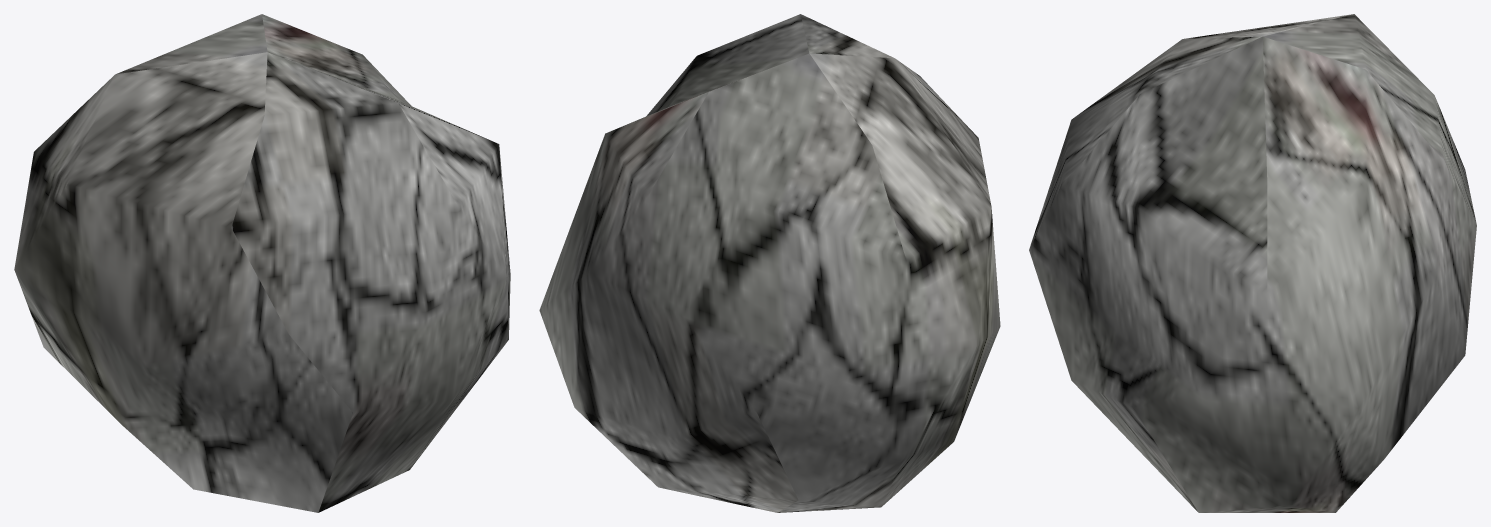
Rendered from pedra.fbx.
3 renders of one model, left to right at view 1: azimuth 30°, elevation 25°; view 2: azimuth 150°, elevation 25°; view 3: azimuth 270°, elevation 25°, orthographic. The views are drawn at different scales.
Visible parts, largest first — view 1: Icosphere; view 2: Icosphere; view 3: Icosphere.
Boxes of the visible parts, <box> form: Icosphere: <box>14,14,510,512</box>; Icosphere: <box>539,14,1000,512</box>; Icosphere: <box>1029,14,1476,512</box>.
Size of the model in its own units: 220 by 225 by 202.
Materials: 1 (1 with a texture image).
